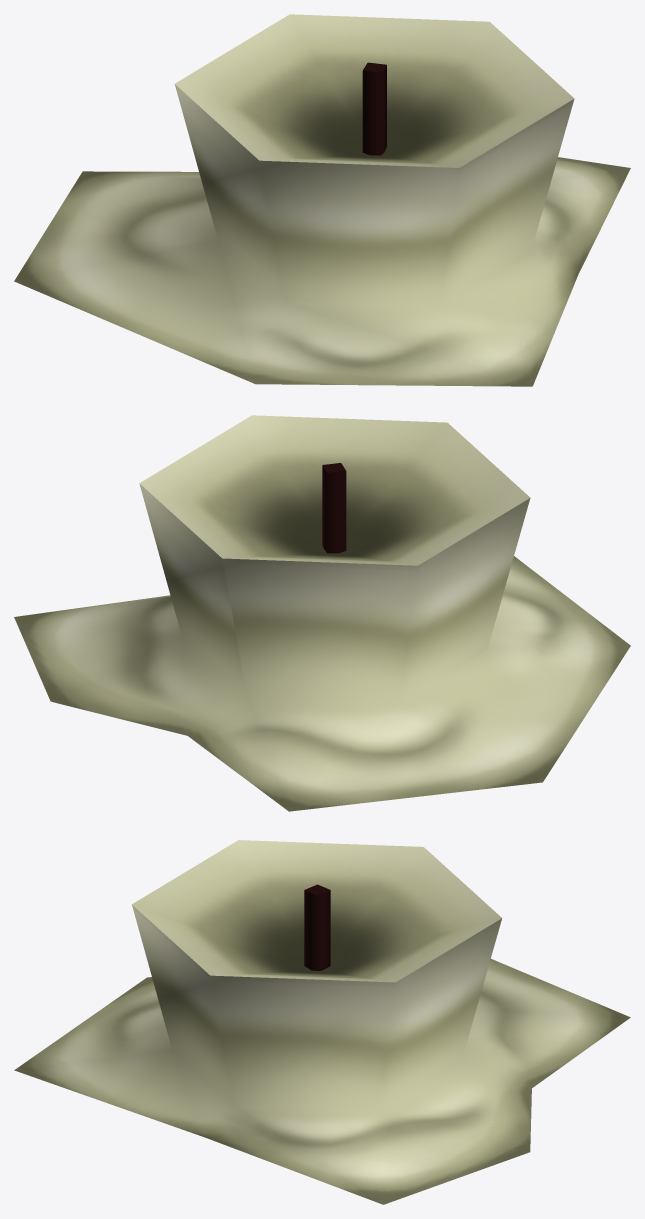
The model's file is Dg_01_candle_003.FBX.
The picture shows the model from 3 angles, top to bottom: view 1: azimuth 30°, elevation 25°; view 2: azimuth 150°, elevation 25°; view 3: azimuth 270°, elevation 25°; orthographic projection. The views are drawn at different scales.
Visible parts, largest first — view 1: Dg_01_candle_003; view 2: Dg_01_candle_003; view 3: Dg_01_candle_003.
Part boxes in pixels (<box>): Dg_01_candle_003: <box>14,14,630,386</box>; Dg_01_candle_003: <box>14,415,630,811</box>; Dg_01_candle_003: <box>14,840,630,1204</box>.
Bounding box in the file's own units: 0.5879 × 0.1918 × 0.5859.
